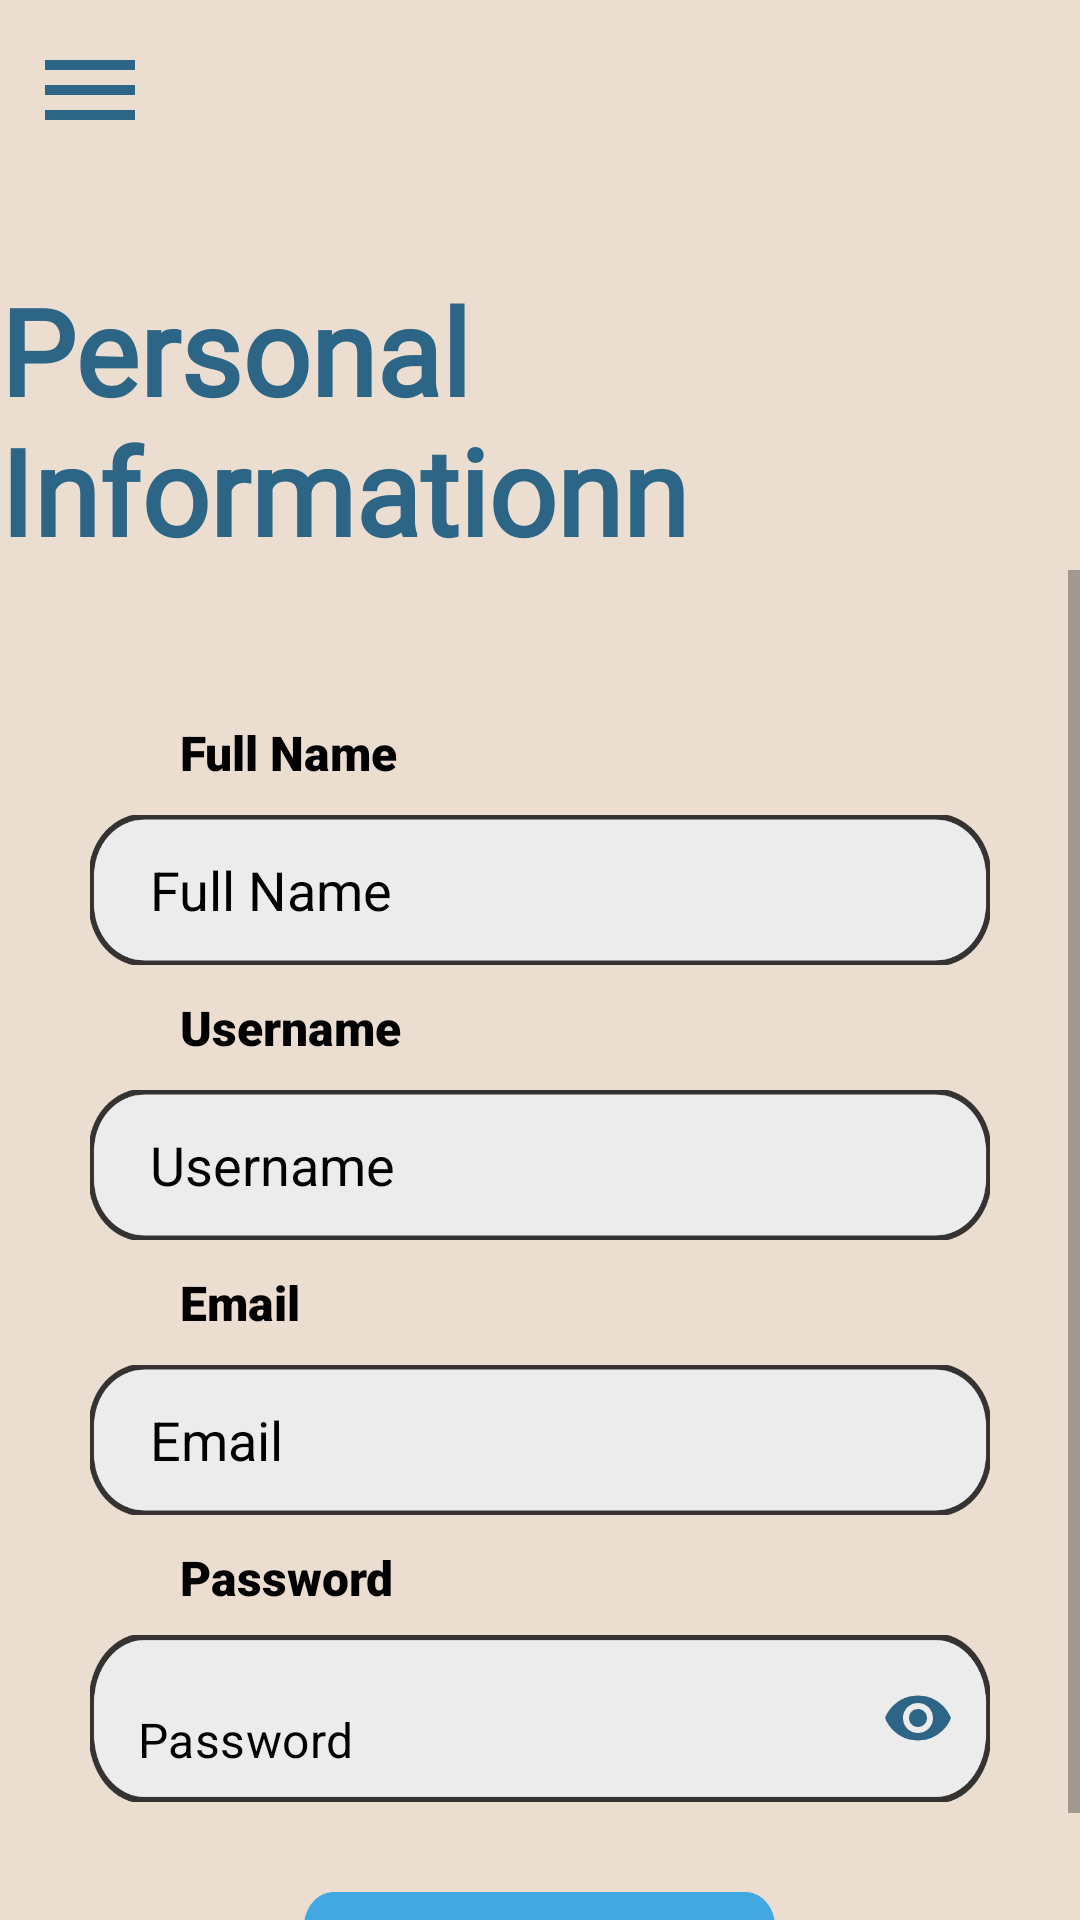

Icon click points for this 1080w x 1920h phone screenshot, format (x,y):
menu: (90,90)
